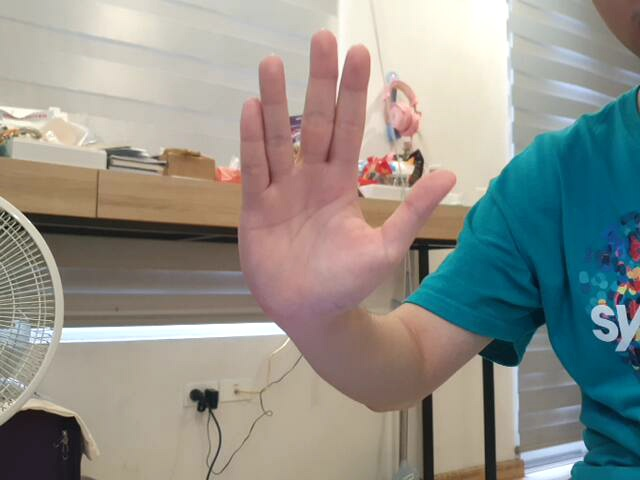LiveLong: (235, 26, 459, 331)
